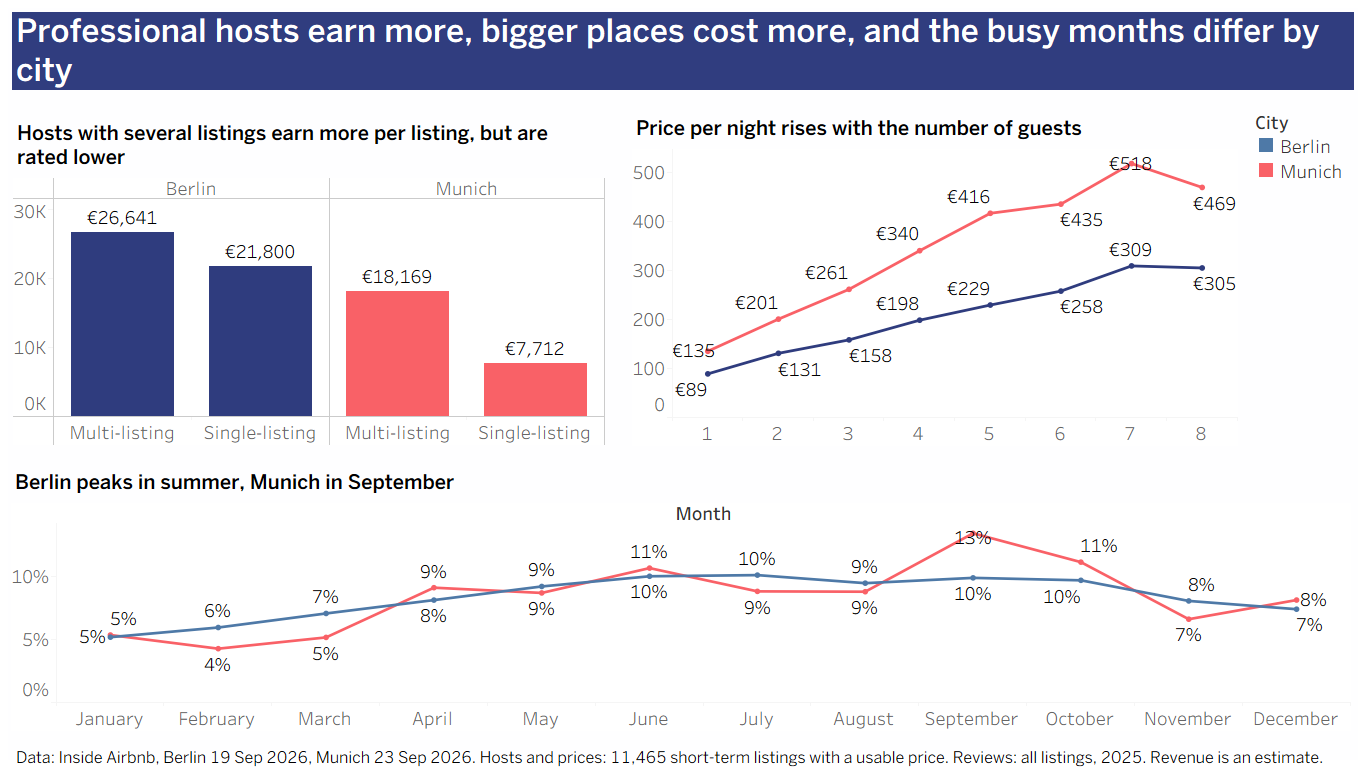

This screenshot's page, from the dashboard's own definition file:
{"tool":"tableau","page":{"name":"Hosts, Guests & Seasons","canvas":[1366,768],"ordinal":1},"visuals":[{"type":"text","box":[8,8,1350,86]},{"type":"legend","title":"Busy months","param":"[federated.1twbcqy0s6lu5j17avwb617jo8ao].[none:city:nk]","box":[1254,107,105,104]},{"type":"worksheet","title":"Price by guests","mark":"Line","rows":["price"],"cols":["accommodates"],"box":[632,110,605,336]},{"type":"worksheet","title":"Hosts","mark":"Automatic","rows":["est_revenue_l365d"],"cols":["city","host_type"],"box":[13,115,592,331]},{"type":"worksheet","title":"Busy months","mark":"Line","cols":["Calculation_0040189450371075"],"box":[11,464,1339,267]},{"type":"text","box":[12,747,1347,20]}]}

Visuals, with their boxes in screenshot pixels (x1, y1, x2, y2), scaled from the page's 1366x768 canvas onto the 1366x768 screenshot:
text: [x1=8, y1=8, x2=1358, y2=94]
"Busy months" legend: [x1=1254, y1=107, x2=1359, y2=211]
"Price by guests" worksheet (Line marks): [x1=632, y1=110, x2=1237, y2=446]
"Hosts" worksheet: [x1=13, y1=115, x2=605, y2=446]
"Busy months" worksheet (Line marks): [x1=11, y1=464, x2=1350, y2=731]
text: [x1=12, y1=747, x2=1359, y2=767]
